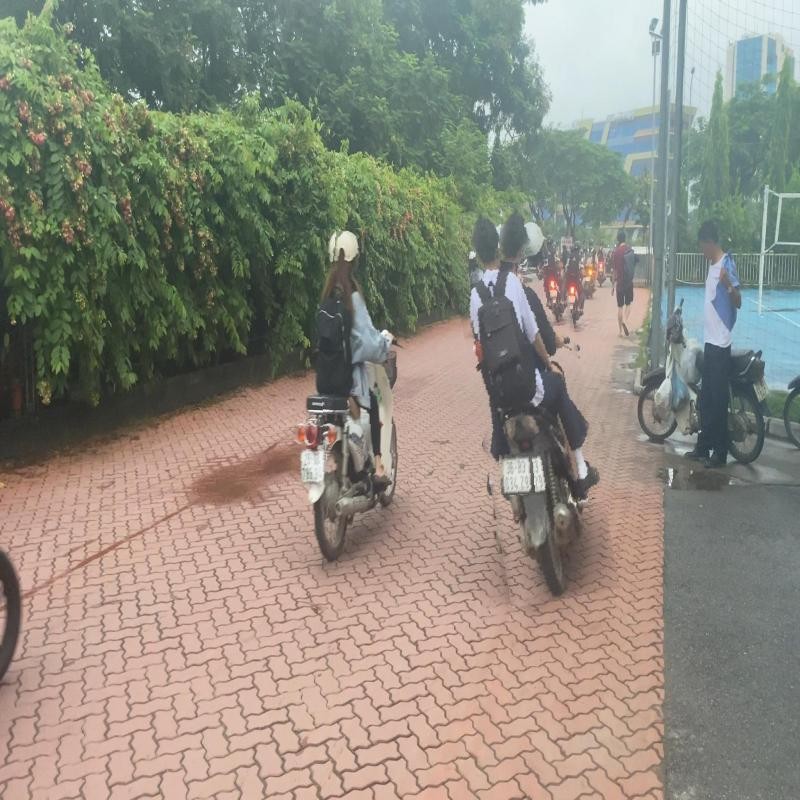helmet: (333, 231, 361, 272), (525, 220, 548, 268)
licenseplate: (500, 453, 534, 494), (297, 446, 328, 486)
motorcyclist: (460, 201, 604, 606), (292, 228, 410, 564)
nohelmet: (498, 208, 530, 264)
